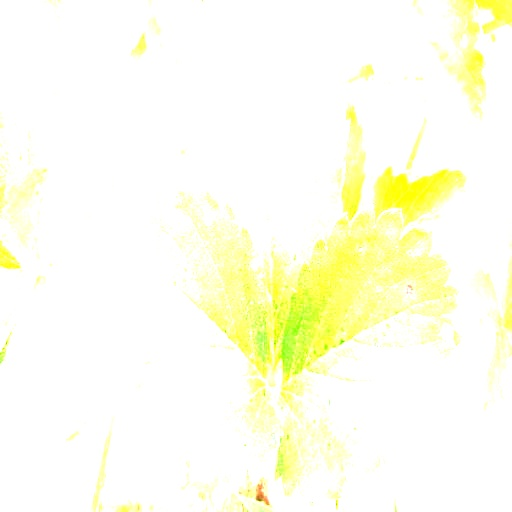Leaf Spot: (274, 202, 464, 508), (190, 3, 351, 348), (110, 179, 283, 498)
